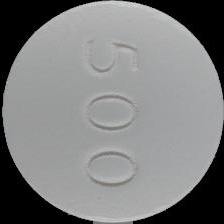64205-218: (0, 0, 224, 224)
